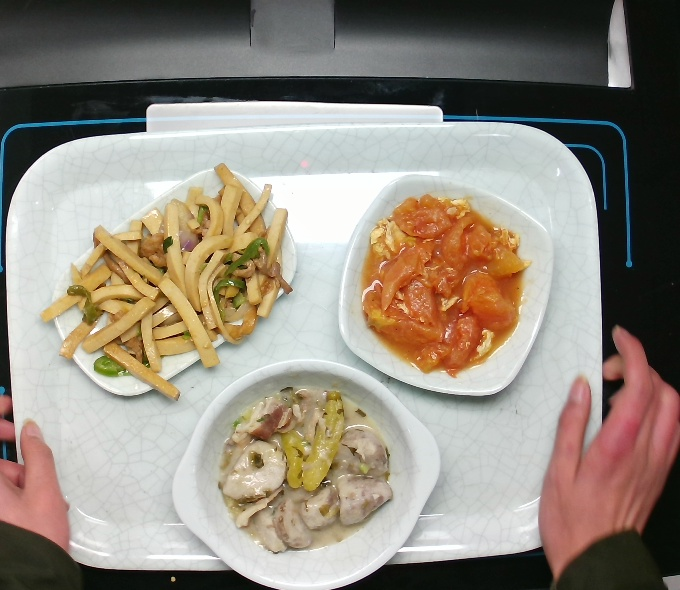wcq-FanQieChaoDan: (357, 189, 538, 383)
wcq-QianYeDouFu: (33, 158, 303, 407)
wcq-YangYu: (213, 382, 400, 557)
